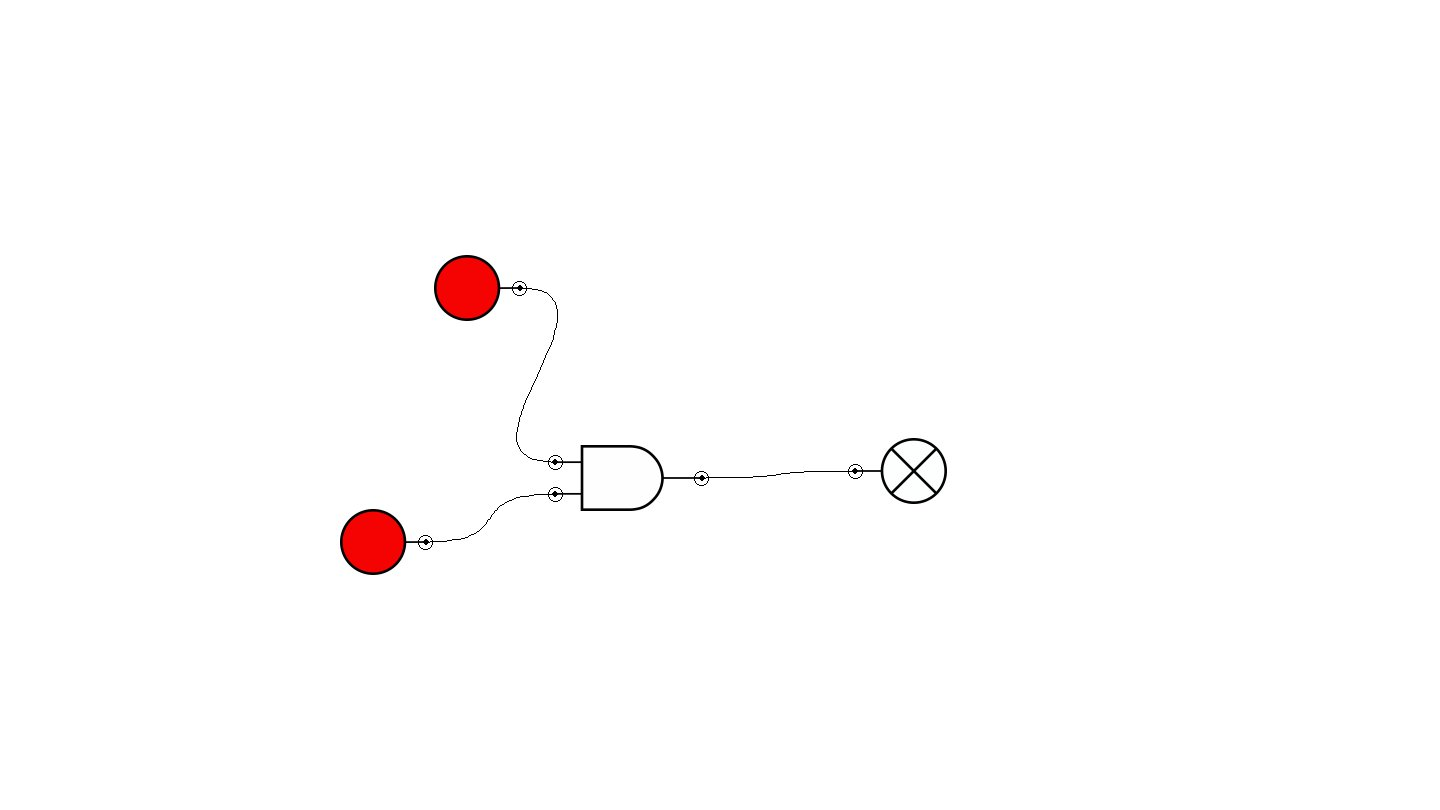and: (548, 445, 709, 511)
bulb: (848, 438, 947, 504)
switch_False: (434, 255, 527, 321), (340, 509, 433, 575)
